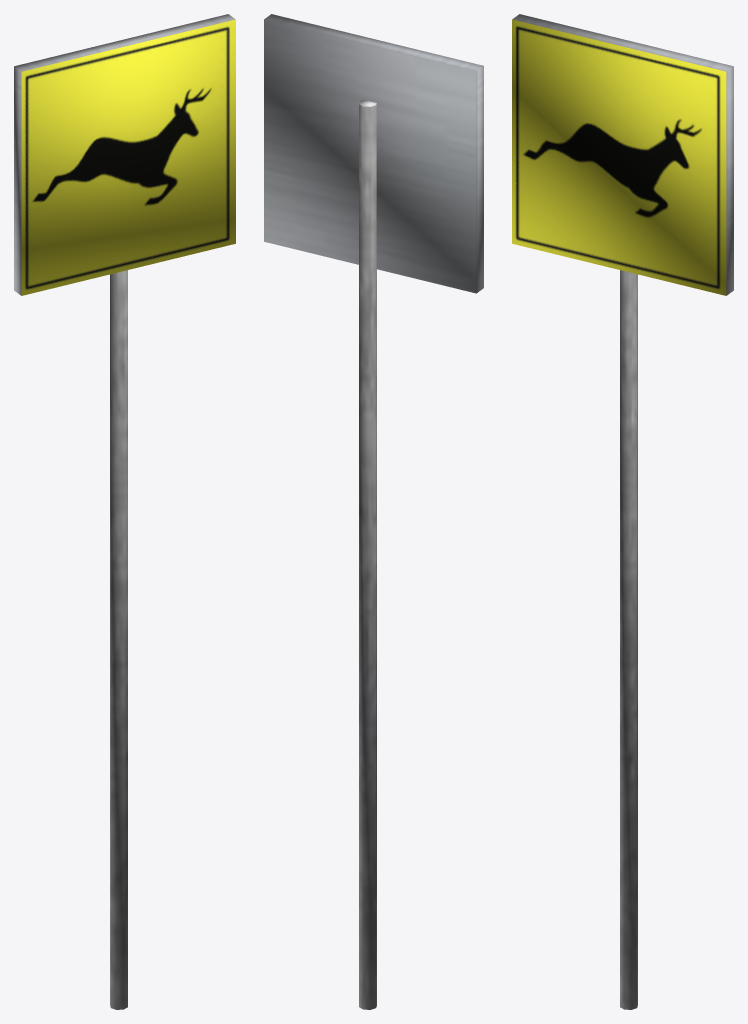
The model's file is Sign2.fbx.
The picture shows the model from 3 angles, left to right: view 1: azimuth 30°, elevation 25°; view 2: azimuth 150°, elevation 25°; view 3: azimuth 330°, elevation 25°; orthographic projection.
Visible parts, largest first — view 1: Cylinder; view 2: Cylinder; view 3: Cylinder.
Part boxes in pixels (<box>): Cylinder: <box>14,14,235,1009</box>; Cylinder: <box>264,14,483,1009</box>; Cylinder: <box>512,14,733,1009</box>.
Size of the model in its own units: 1.66 by 7.18 by 0.1936.
1 material, 1 textured.
